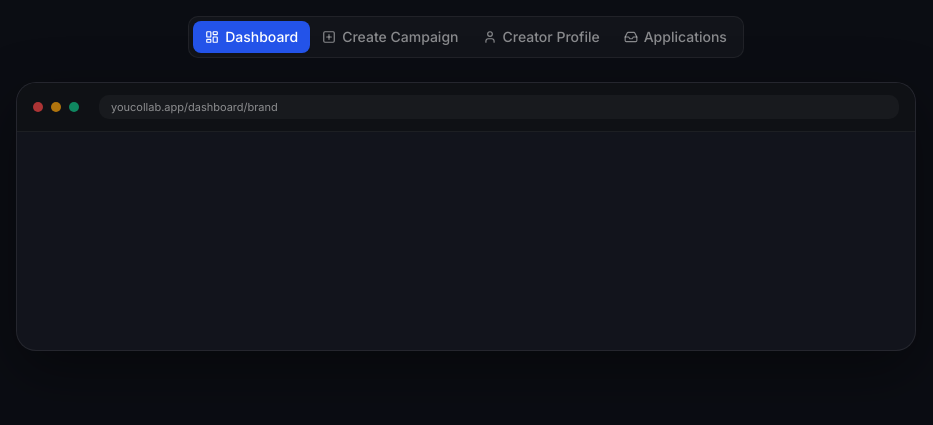
ProductShowcase › switches the visible mockup panel when a different tab is selected
# Radix's Tabs.Trigger activates on mousedown, not click.
Press the mouse on the tab "Applications" at x=675, y=36, box [612,20,739,52]
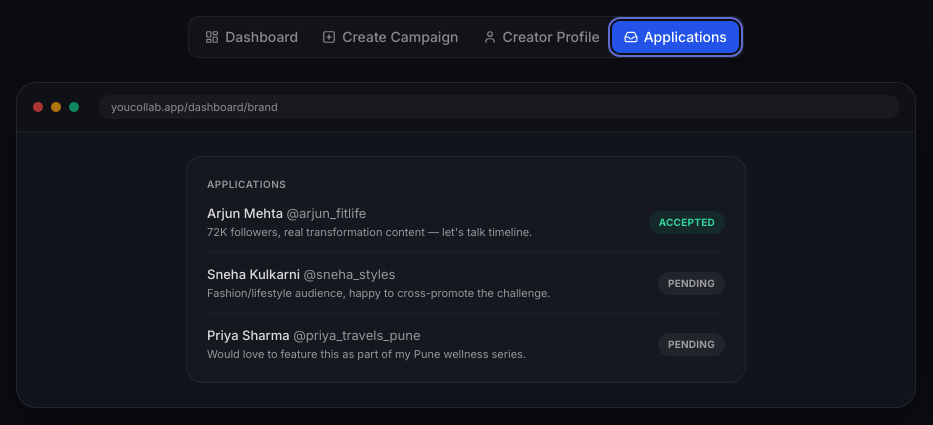
Expected: the text "@arjun_fitlife" is shown, [286,205,366,221]
Expected: the text "72K followers, real transformation content" is shown, [207,224,532,238]
